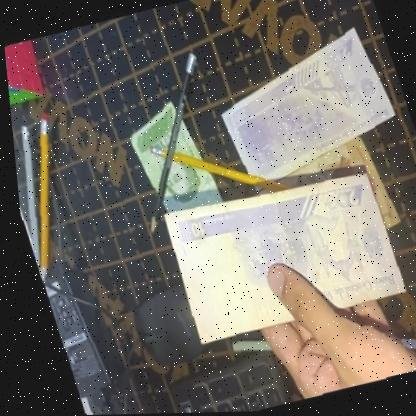fifty-front-vef: (118, 95, 221, 220)
ten-back-vef: (152, 165, 405, 346)
two_hundred-back-vef: (199, 23, 408, 198)
